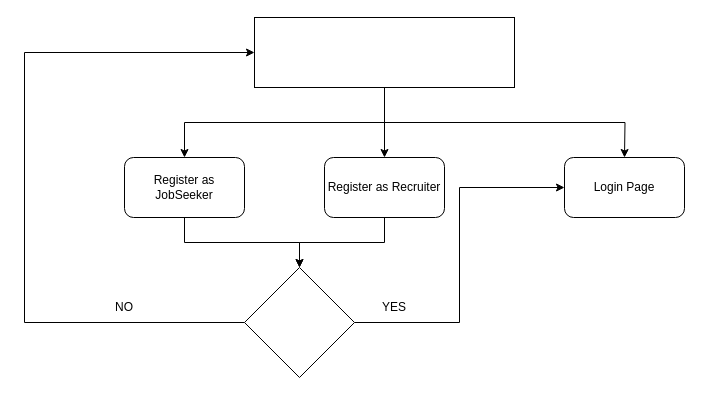
Image size: 702x395. Some labels were removed from this diagram. Each missing label, with the box of its shape:
Index Page: (254, 16, 514, 88)
OTP Authentication: (244, 266, 354, 378)
